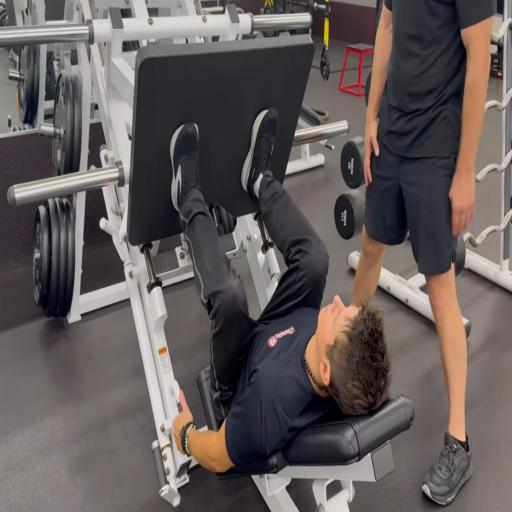Leg Press: (21, 25, 357, 468)
